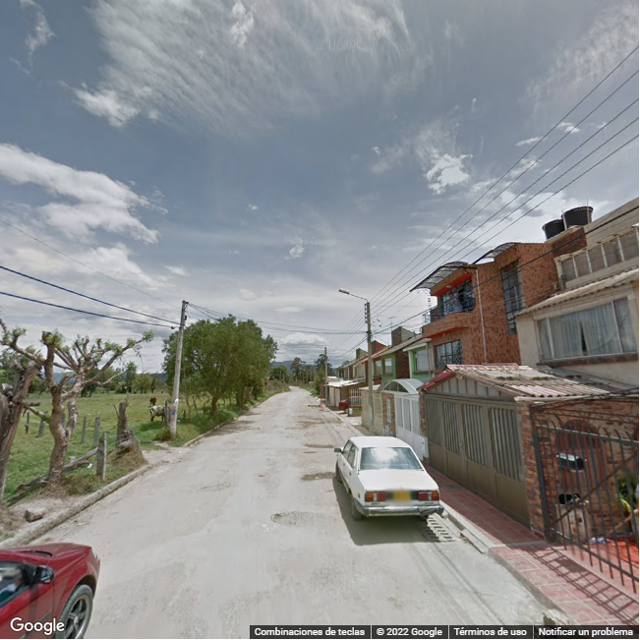D20: (312, 558, 366, 604)
D40: (271, 509, 291, 525)
